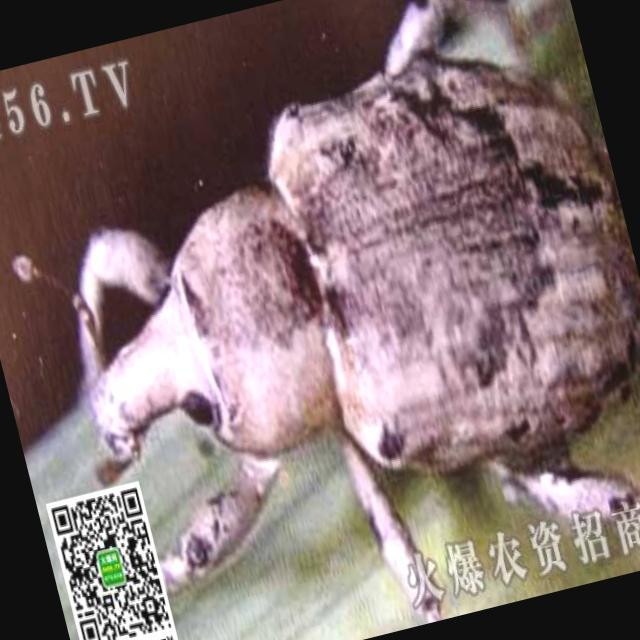ricebug: (76, 21, 639, 531)
